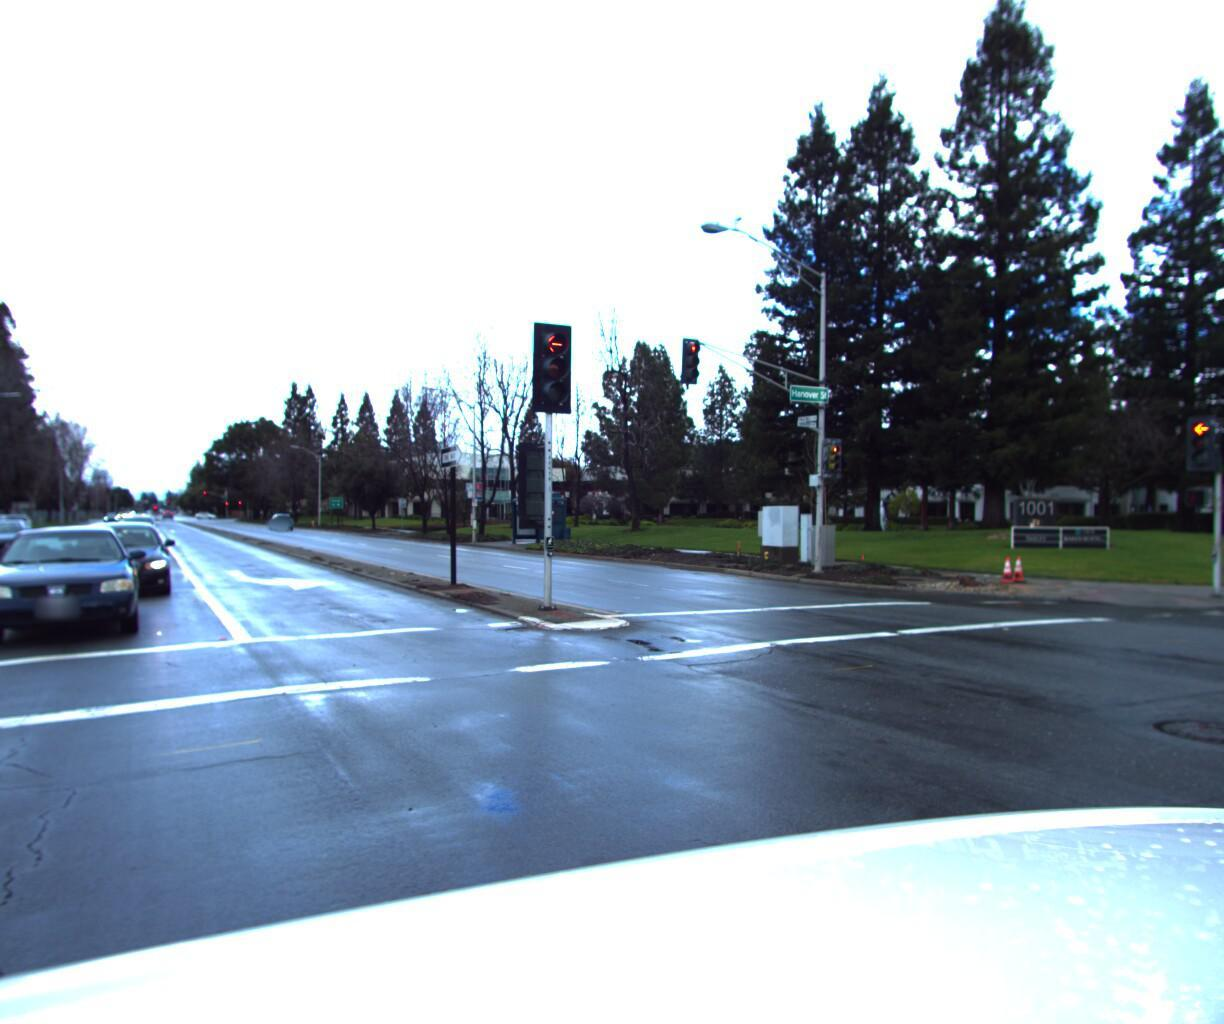car: (0, 519, 147, 660), (46, 517, 161, 604), (0, 516, 35, 564), (267, 511, 294, 529)
